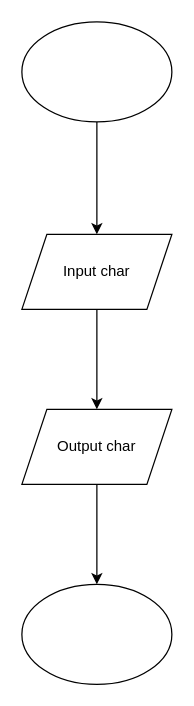
This 194x706 diagram has some shape labels left out. Here are the shapes that lost their labels. From the top down, the box of each, then its label:
(21, 21, 172, 122): Start
(21, 583, 172, 684): End
